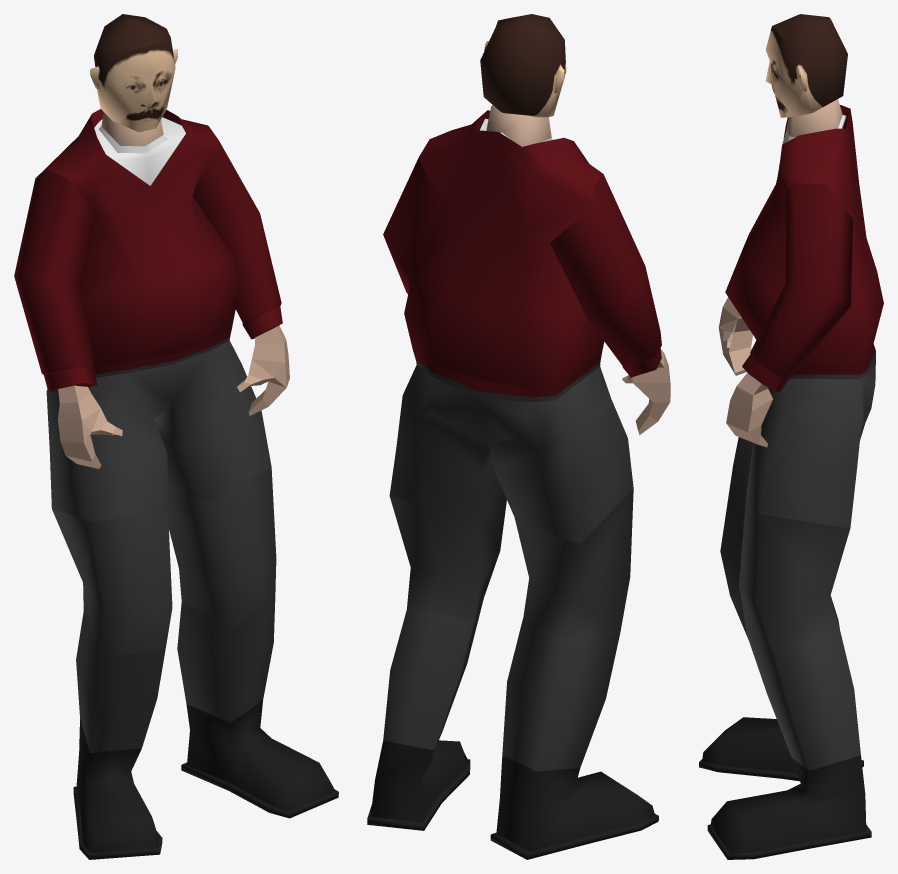
Rendered from NPC5_pose.fbx.
3 renders of one model, left to right at view 1: azimuth 30°, elevation 25°; view 2: azimuth 150°, elevation 25°; view 3: azimuth 270°, elevation 25°, orthographic. The views are drawn at different scales.
Parts seen in each view (by area): view 1: Telo.008; view 2: Telo.008; view 3: Telo.008.
Part boxes in pixels (x1,y1,x2,y2): Telo.008: [14, 14, 338, 859]; Telo.008: [367, 14, 670, 859]; Telo.008: [699, 14, 883, 859].
Bounding box in the file's own units: 58.06 × 159 × 34.75.
6 materials, 1 textured.
